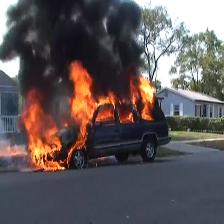fire: (19, 61, 116, 172), (119, 73, 155, 121)
